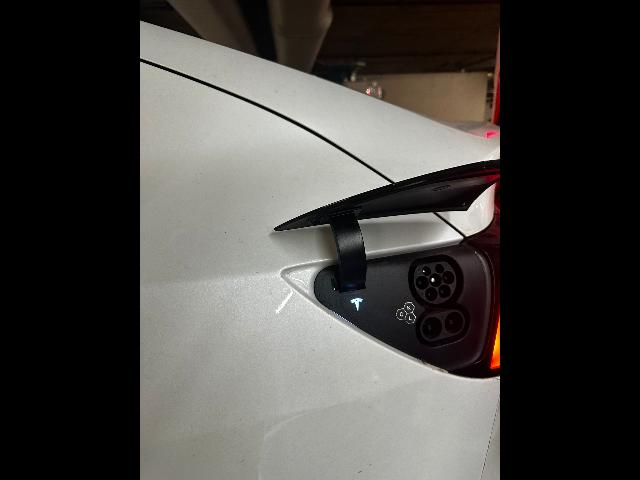inlet: (414, 262, 456, 303)
inlet-above-left: (422, 266, 431, 276)
inlet-above-right: (435, 264, 444, 274)
inlet-below-left: (425, 287, 438, 301)
inlet-below-right: (439, 285, 451, 298)
inlet-circle: (429, 273, 442, 287)
inlet-circle-left: (416, 276, 429, 290)
inlet-circle-right: (442, 271, 455, 285)
inlet-minus: (444, 312, 463, 333)
inlet-plus: (422, 317, 442, 339)
